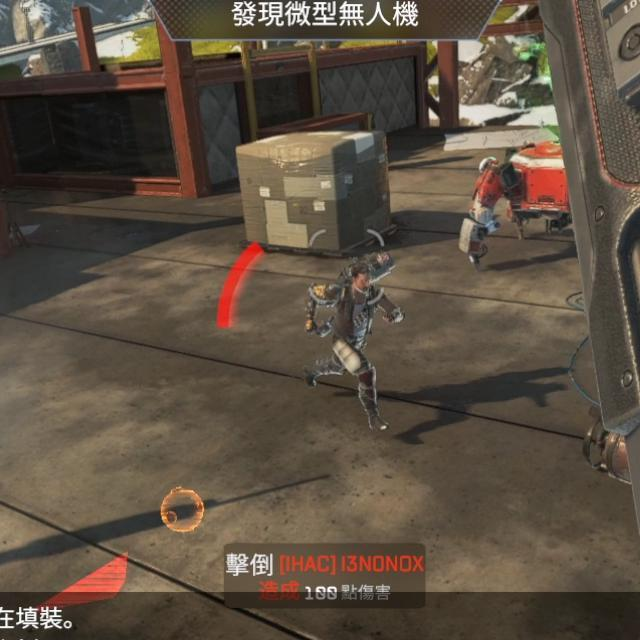avatar: (304, 260, 404, 434)
